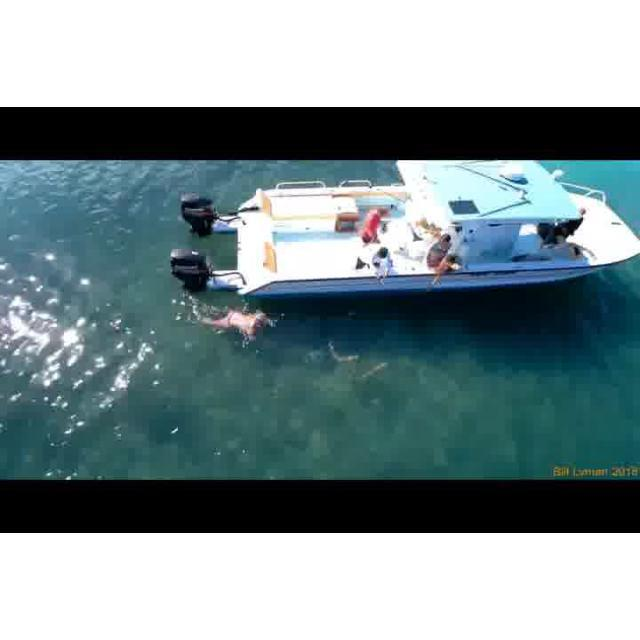human: (194, 305, 283, 345)
